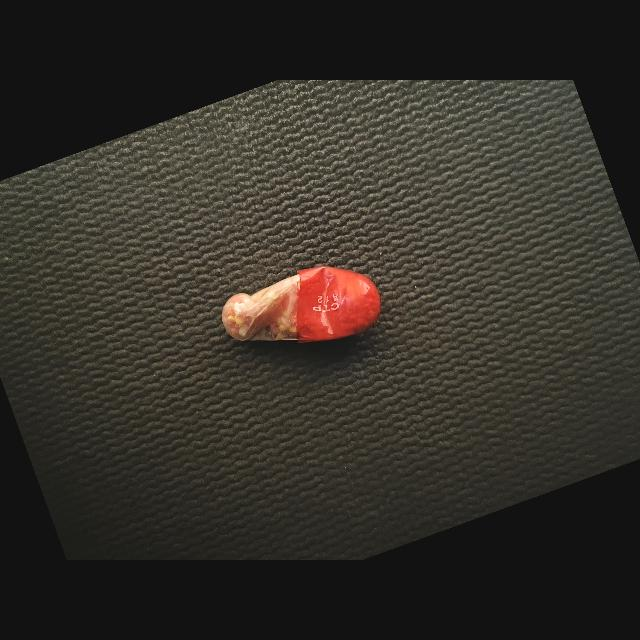Defective Capsule: (222, 266, 381, 343)
